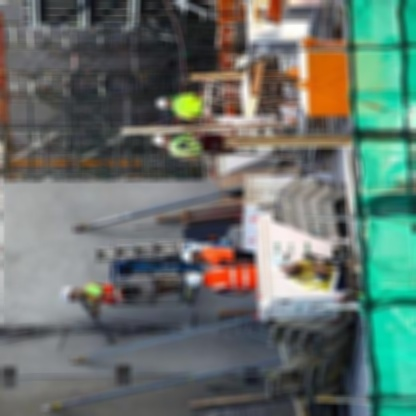vest: (287, 256, 343, 295), (202, 261, 256, 295), (201, 243, 253, 269), (79, 281, 125, 307)
white: (268, 251, 300, 270), (184, 271, 204, 291), (180, 248, 198, 268), (57, 286, 75, 304), (150, 133, 166, 147), (155, 96, 168, 112)
